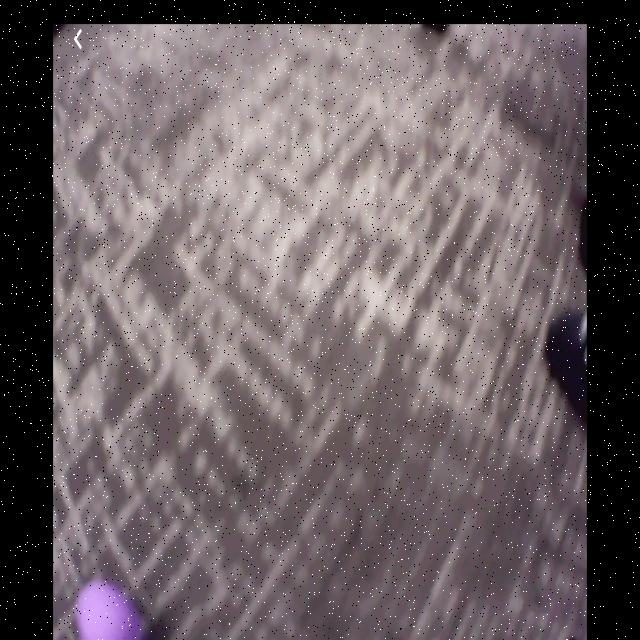ball: (69, 586, 143, 640)
